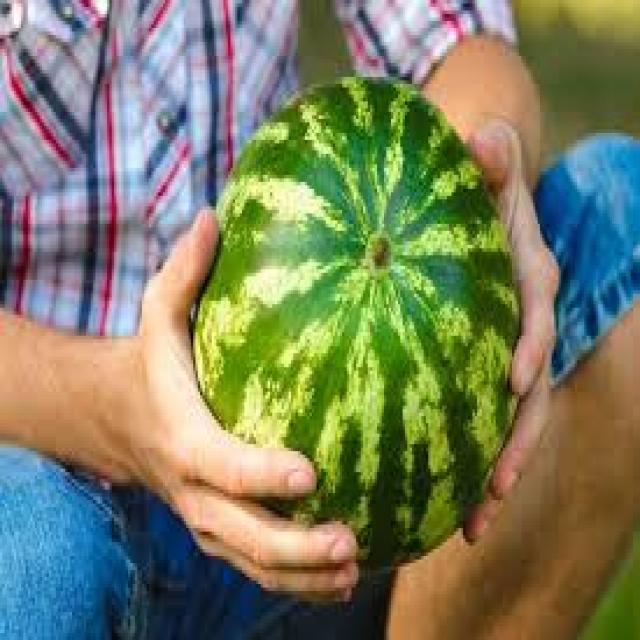watermelon: (191, 73, 521, 570)
